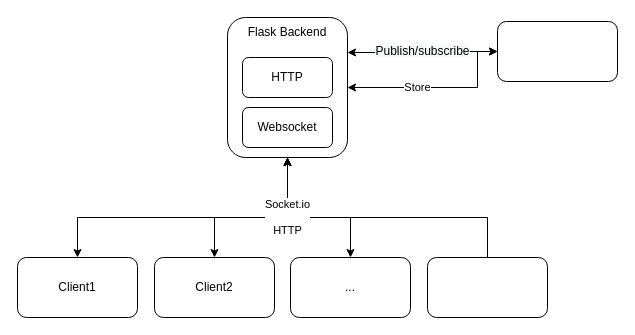
Image size: 635x335. Some labels were removed from this diagram. Each missing label, with the box of its shape:
ClientX: (426, 256, 548, 318)
Redis: (496, 20, 618, 82)
